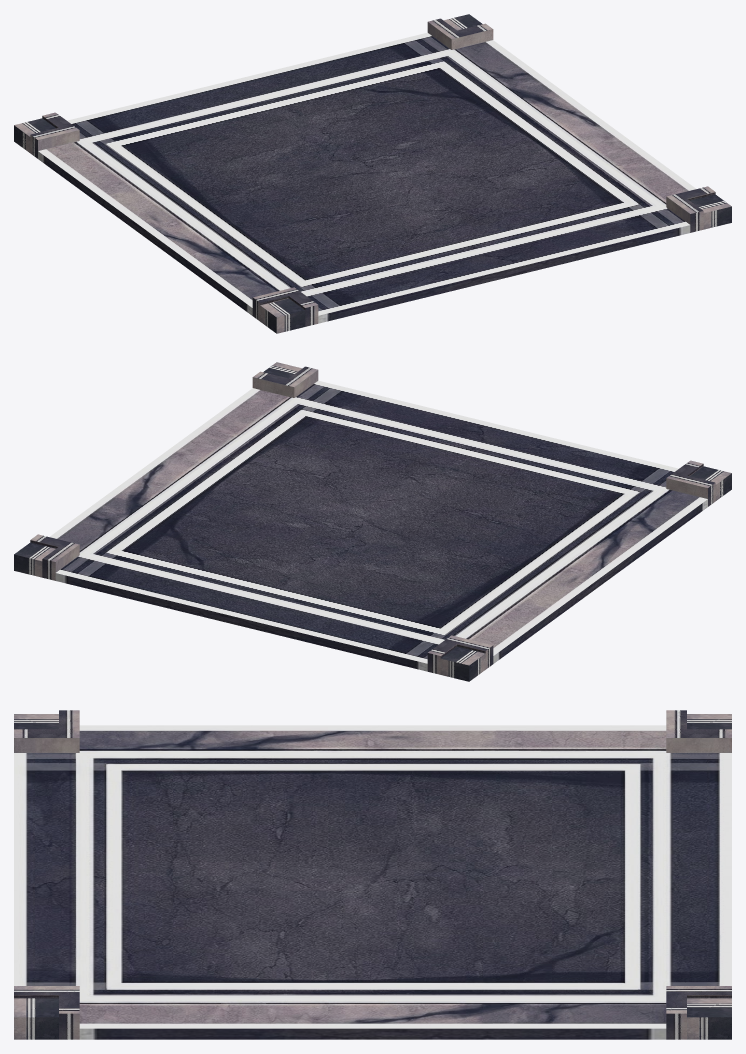
Rendered from RoadXa.glb.
3 views of the same model, one above another, from view 1: azimuth 30°, elevation 25°; view 2: azimuth 150°, elevation 25°; view 3: azimuth 270°, elevation 25° (orthographic). The views are drawn at different scales.
Parts seen in each view (by area): view 1: Road2_X; view 2: Road2_X; view 3: Road2_X.
Part boxes in pixels (x1,y1,x2,y2): Road2_X: (14, 14, 731, 333); Road2_X: (14, 362, 731, 681); Road2_X: (14, 710, 731, 1039).
Size of the model in its own units: 3.66 by 0.1449 by 3.66.
Materials: 1 (1 with a texture image).
